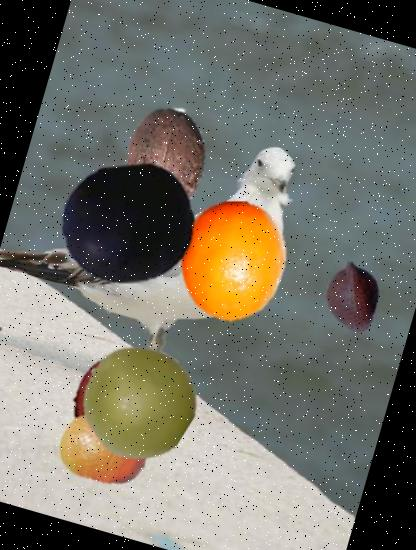Banana: (41, 343, 167, 468)
Cocos: (101, 95, 228, 222)
Grape: (45, 141, 211, 307), (68, 332, 208, 472)
Lemon: (157, 186, 308, 338)
Mandarine: (48, 392, 159, 504)
Salak: (307, 253, 396, 342)
